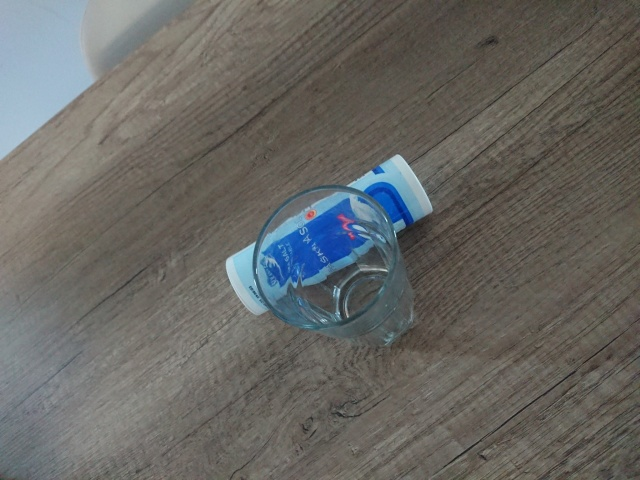Solana Pag Fine Sea Salt 250g: (222, 150, 438, 318)
